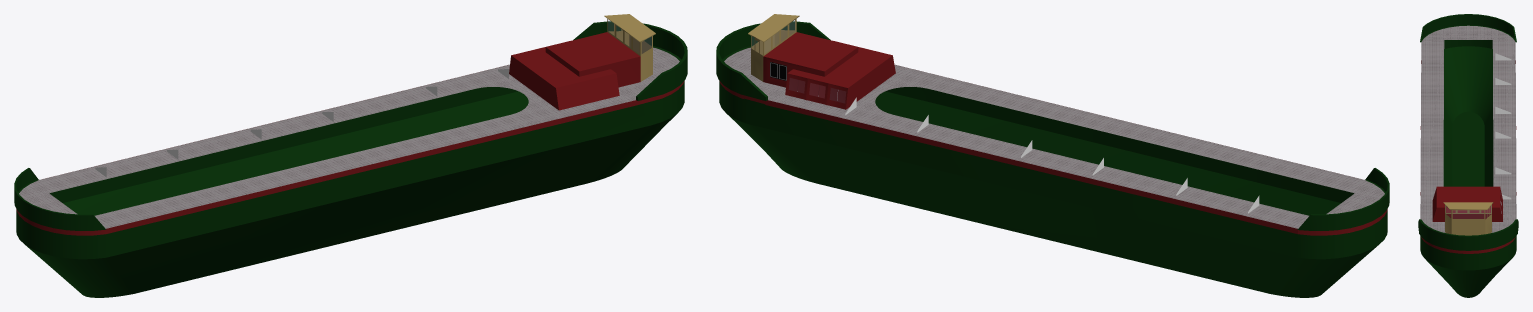
File: bateau.gltf
The picture shows the model from 3 angles, left to right: view 1: azimuth 30°, elevation 25°; view 2: azimuth 150°, elevation 25°; view 3: azimuth 270°, elevation 25°; orthographic projection. The views are drawn at different scales.
Visible parts, largest first — view 1: Circle, Circle_1, Circle_2, Circle_3, Circle_6; view 2: Circle, Circle_1, Circle_2, Circle_3, Circle_6; view 3: Circle, Circle_1, Circle_2, Circle_3, Circle_6, Circle_4.
Part boxes in pixels (<box>): Circle: <box>14,21,687,297</box>; Circle_1: <box>19,47,679,228</box>; Circle_2: <box>16,32,684,235</box>; Circle_3: <box>604,14,655,81</box>; Circle_6: <box>95,69,508,177</box>; Circle: <box>716,21,1389,297</box>; Circle_1: <box>724,47,1384,228</box>; Circle_2: <box>719,32,1387,235</box>; Circle_3: <box>748,14,799,81</box>; Circle_6: <box>845,97,1259,213</box>; Circle: <box>1418,14,1518,297</box>; Circle_1: <box>1420,25,1516,232</box>; Circle_2: <box>1420,60,1516,253</box>; Circle_3: <box>1443,202,1493,235</box>; Circle_6: <box>1495,53,1511,199</box>; Circle_4: <box>1446,206,1490,212</box>.
Bounding box in the file's own units: 16.87 × 3.32 × 3.18.
7 materials, 1 textured.
